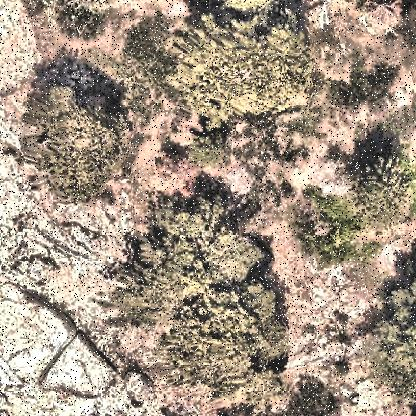tree-top: (117, 195, 305, 383), (8, 69, 140, 207), (171, 7, 319, 127), (352, 271, 416, 399), (350, 143, 416, 224), (183, 129, 232, 169)
